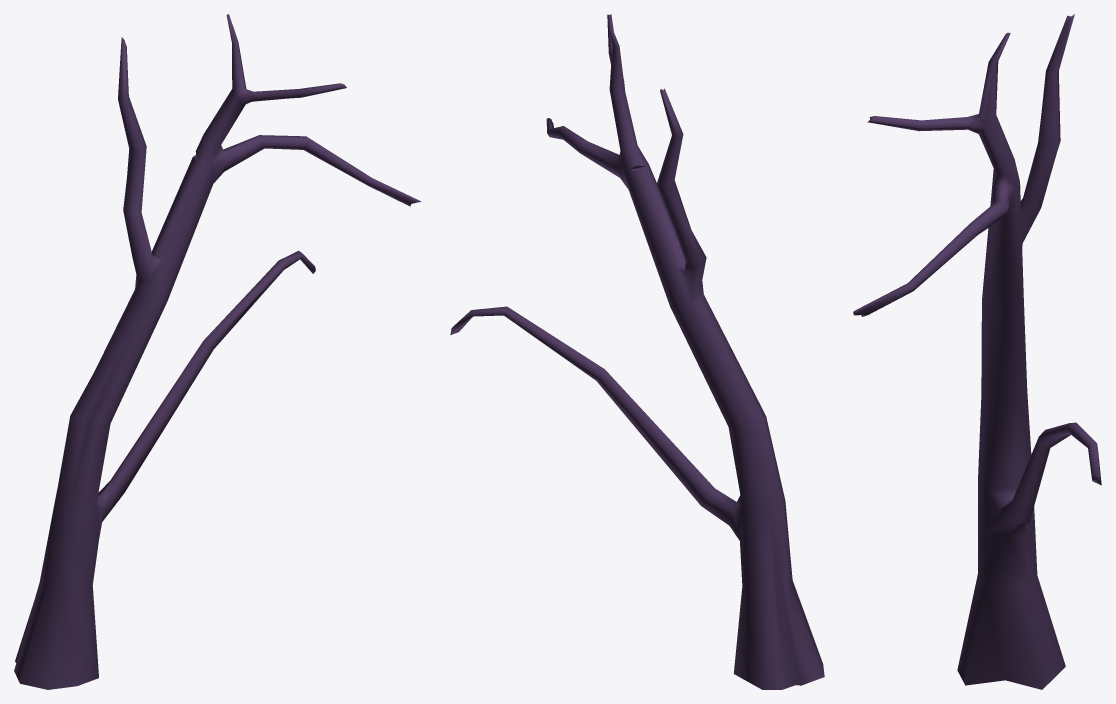
The model's file is tree_S2.fbx.
3 views of the same model, side by side, from view 1: azimuth 30°, elevation 25°; view 2: azimuth 150°, elevation 25°; view 3: azimuth 270°, elevation 25° (orthographic). The views are drawn at different scales.
Parts seen in each view (by area): view 1: tree_S2; view 2: tree_S2; view 3: tree_S2.
Part boxes in pixels (bbox=[...]): tree_S2: bbox=[14, 14, 421, 689]; tree_S2: bbox=[450, 14, 824, 689]; tree_S2: bbox=[853, 14, 1101, 689].
Bounding box in the file's own units: 130 × 224 × 68.04.
